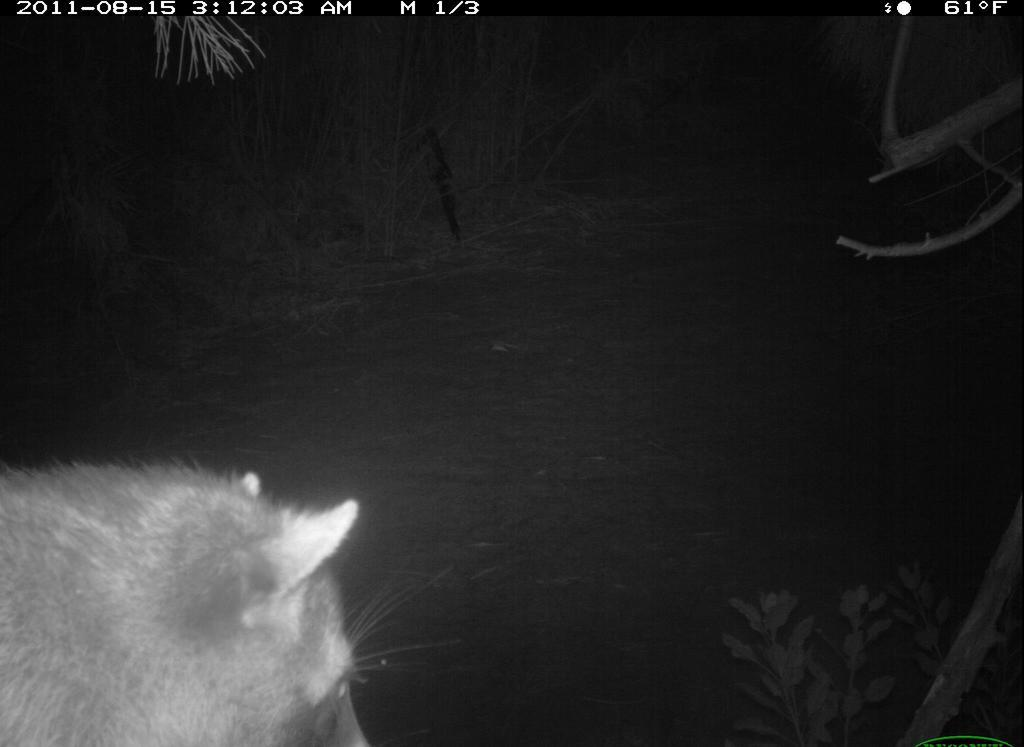raccoon: (1, 450, 395, 740)
